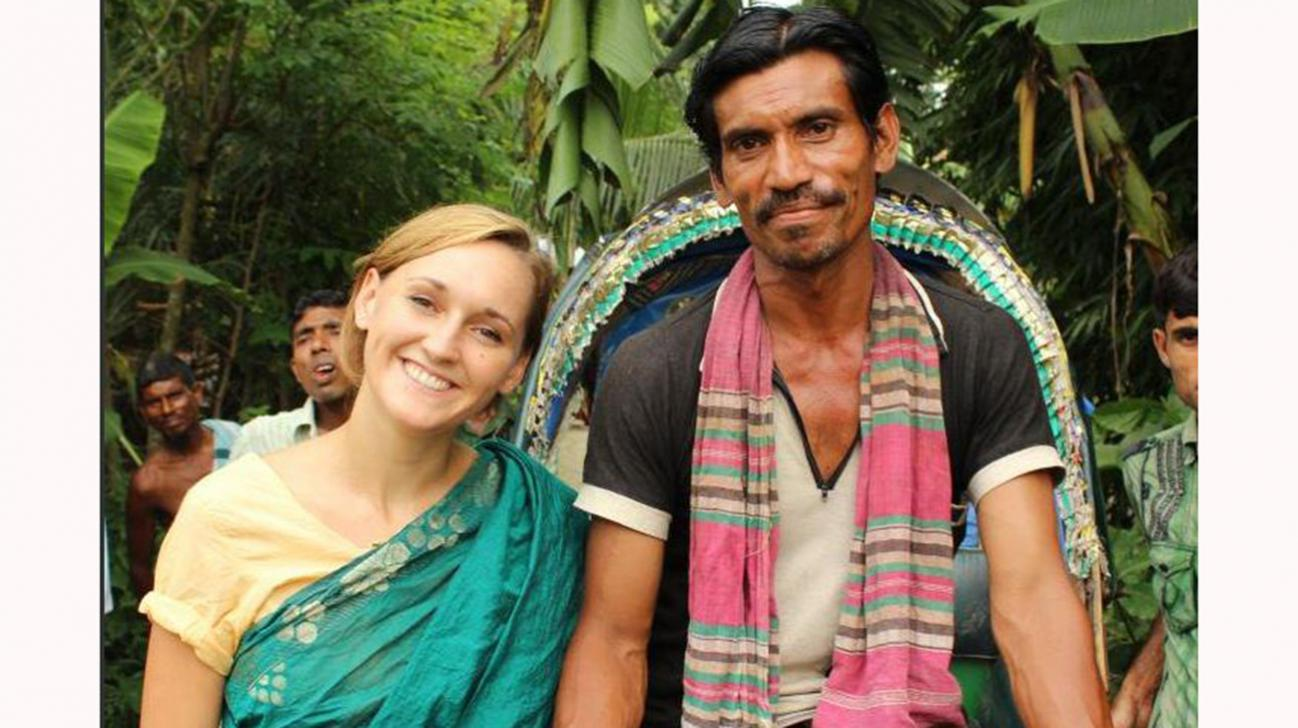Rickshaw: (535, 149, 1111, 726)
